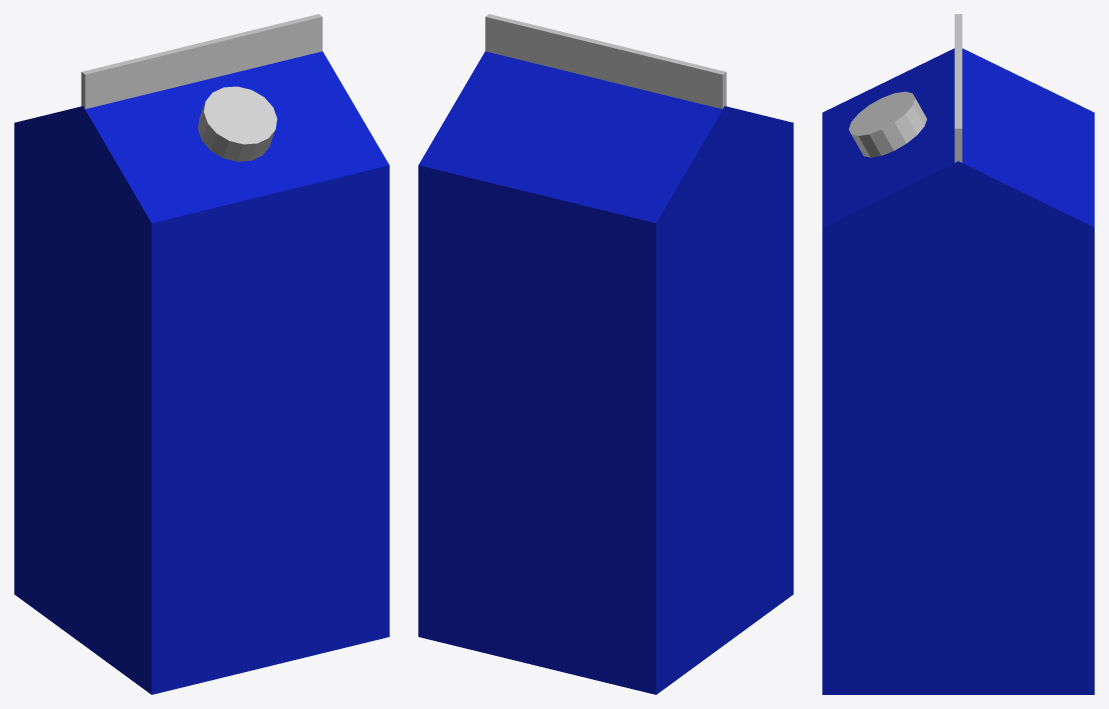
Rendered from MilkPack.obj.
The picture shows the model from 3 angles, left to right: view 1: azimuth 30°, elevation 25°; view 2: azimuth 150°, elevation 25°; view 3: azimuth 270°, elevation 25°; orthographic projection.
Parts seen in each view (by area): view 1: Cube, Cube.001, Cylinder; view 2: Cube, Cube.001; view 3: Cube, Cylinder, Cube.001.
Boxes of the visible parts, x1,y1,x2,y2 form: Cube: [14, 51, 389, 694]; Cube.001: [81, 14, 322, 108]; Cylinder: [198, 86, 277, 161]; Cube: [418, 51, 793, 694]; Cube.001: [485, 14, 726, 108]; Cube: [822, 48, 1094, 694]; Cylinder: [848, 91, 926, 157]; Cube.001: [954, 14, 962, 162].
Bounding box in the file's own units: 2 × 4.59 × 2.
